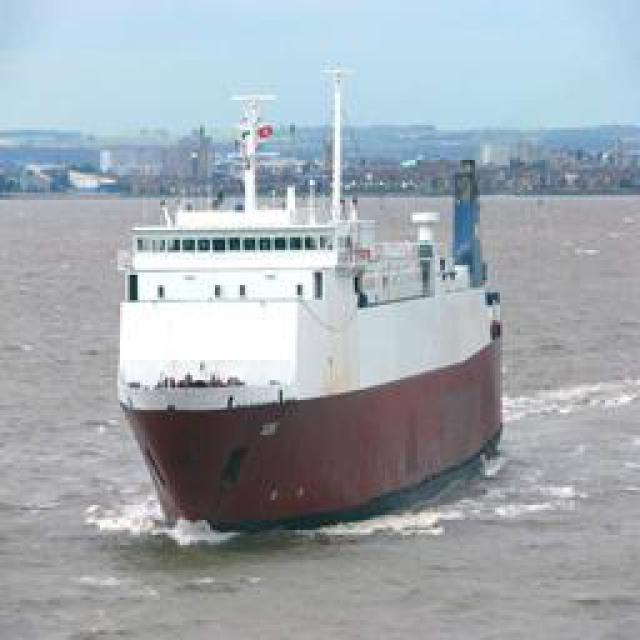Ship: (115, 95, 508, 535)
